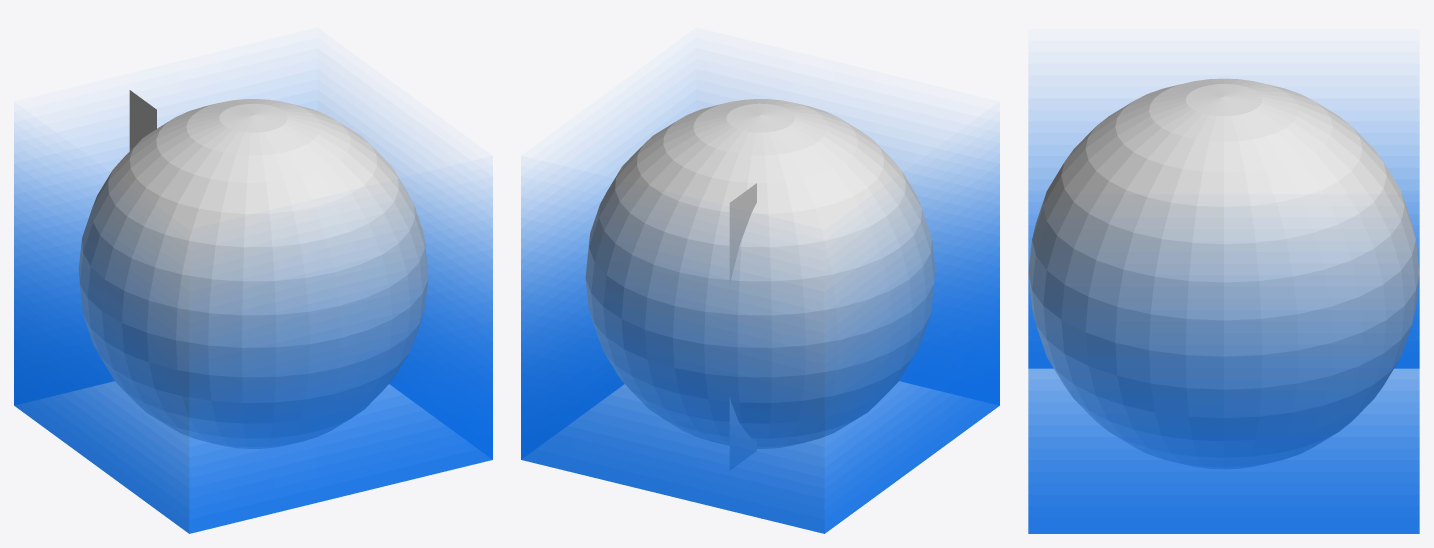
Rendered from tools.gltf.
3 views of the same model, side by side, from view 1: azimuth 30°, elevation 25°; view 2: azimuth 150°, elevation 25°; view 3: azimuth 270°, elevation 25° (orthographic). The views are drawn at different scales.
Visible parts, largest first — view 1: blueCube, enclosingSphere, coffeeSteamPlane.001; view 2: blueCube, enclosingSphere, coffeeSteamPlane.001; view 3: blueCube, enclosingSphere.
Part boxes in pixels (x1,y1,x2,y2): blueCube: (14,79,492,533); enclosingSphere: (78,99,428,448); coffeeSteamPlane.001: (129,90,156,150); blueCube: (521,79,999,533); enclosingSphere: (585,99,935,448); coffeeSteamPlane.001: (729,183,756,469); blueCube: (1028,87,1419,533); enclosingSphere: (1028,78,1419,468).
Size of the model in its own units: 2 by 2 by 2.
Materials: 1 (1 with a texture image).
